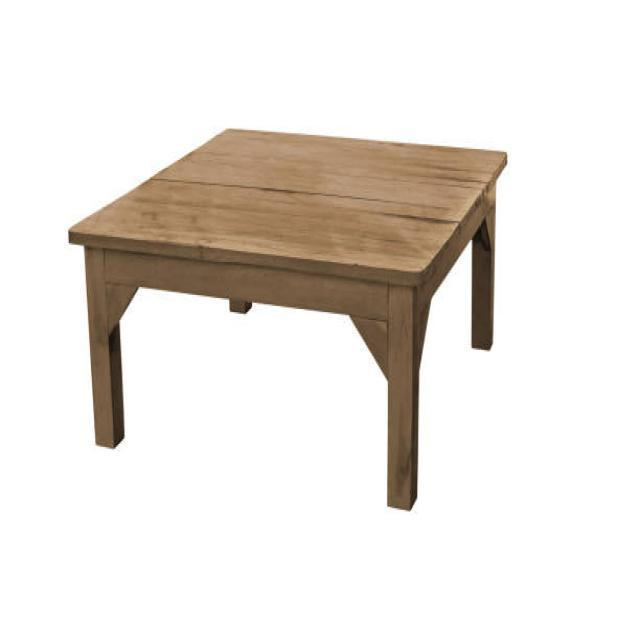table: (67, 125, 507, 510)
